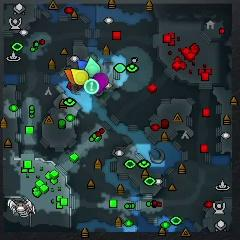Other: (84, 79, 99, 94)
p1: (76, 59, 88, 70)
p2: (85, 56, 101, 78)
p3: (93, 73, 108, 94)
p4: (71, 68, 89, 86)
p5: (64, 69, 76, 85)
